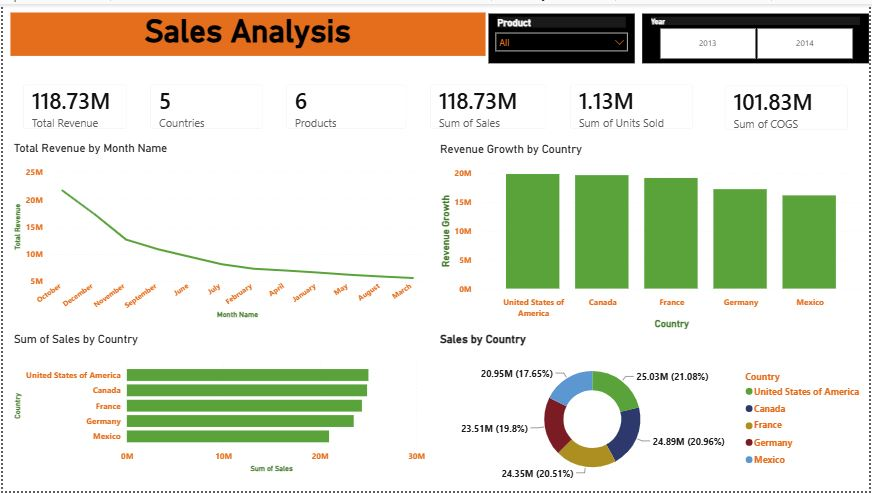

The dashboard page shown, as its layout file describes it:
{"tool":"powerbi","page":{"name":"Sales Analysis","canvas":[1280,720],"ordinal":1},"visuals":[{"type":"shape","title":"Sales Analysis ","box":[11,12.5,701.5,64.2],"z":0},{"type":"textbox","box":[11,202.5,886,150],"z":1000},{"type":"slicer","fields":{"Values":["Calendar.Year"]},"box":[944.2,14.1,335.1,73.6],"z":2000},{"type":"cardVisual","fields":{"Data":["financials.Total Revenue"]},"box":[12.5,101.8,187.9,100.2],"z":3000},{"type":"cardVisual","fields":{"Data":["financials.Countries"]},"box":[200.4,101.8,200.4,100.2],"z":4000},{"type":"cardVisual","fields":{"Data":["financials.Products"]},"box":[400.8,101.8,212.9,100.2],"z":5000},{"type":"cardVisual","fields":{"Data":["Sum(financials. Sales)"]},"box":[613.8,101.8,206.7,100.2],"z":6000},{"type":"cardVisual","fields":{"Data":["Sum(financials.Units Sold)"]},"box":[820.5,101.8,216.1,100.2],"z":7000},{"type":"slicer","fields":{"Values":["financials.Product"]},"box":[717.1,14.1,216.1,73.6],"z":8000},{"type":"lineChart","fields":{"Y":["financials.Total Revenue"],"Category":["financials.Month Name"]},"box":[11,202,618.5,267.8],"z":9000},{"type":"clusteredColumnChart","fields":{"Y":["financials.Revenue Growth"],"Category":["financials.Country"]},"box":[640.4,203.6,638.8,281.8],"z":10000},{"type":"donutChart","title":" Sales by Country","fields":{"Category":["financials.Country"],"Y":["Sum(financials. Sales)"]},"box":[640.4,485.4,638.8,223.9],"z":11000},{"type":"clusteredBarChart","fields":{"Y":["Sum(financials. Sales)"],"Category":["financials.Country"]},"box":[11,485,618,211],"z":12000},{"type":"cardVisual","fields":{"Data":["Sum(financials.COGS)"]},"box":[1049.1,103.3,216.1,100.2],"z":13000}]}

Visuals, with their boxes in screenshot pixels (x1, y1, x2, y2), scaled from the page's 1280x720 canvas onto the 872x493 screenshot:
"Sales Analysis " shape: crop(7, 9, 485, 53)
textbox: crop(7, 139, 611, 241)
slicer - Calendar.Year: crop(643, 10, 871, 60)
cardVisual - financials.Total Revenue: crop(9, 70, 137, 138)
cardVisual - financials.Countries: crop(137, 70, 273, 138)
cardVisual - financials.Products: crop(273, 70, 418, 138)
cardVisual - Sum(financials. Sales): crop(418, 70, 559, 138)
cardVisual - Sum(financials.Units Sold): crop(559, 70, 706, 138)
slicer - financials.Product: crop(489, 10, 636, 60)
lineChart - financials.Total Revenue x financials.Month Name: crop(7, 138, 429, 322)
clusteredColumnChart - financials.Revenue Growth x financials.Country: crop(436, 139, 871, 332)
" Sales by Country" donutChart: crop(436, 332, 871, 486)
clusteredBarChart - Sum(financials. Sales) x financials.Country: crop(7, 332, 429, 477)
cardVisual - Sum(financials.COGS): crop(715, 71, 862, 139)
